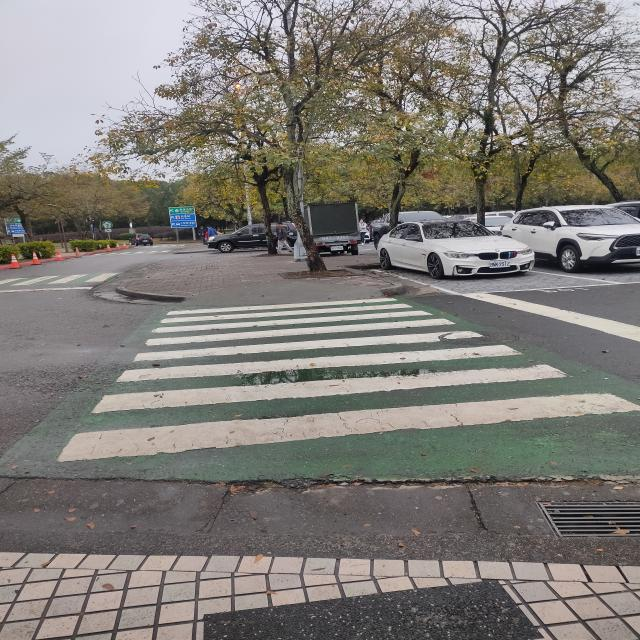zebra_crossing: (73, 150, 238, 473), (0, 144, 57, 428)
